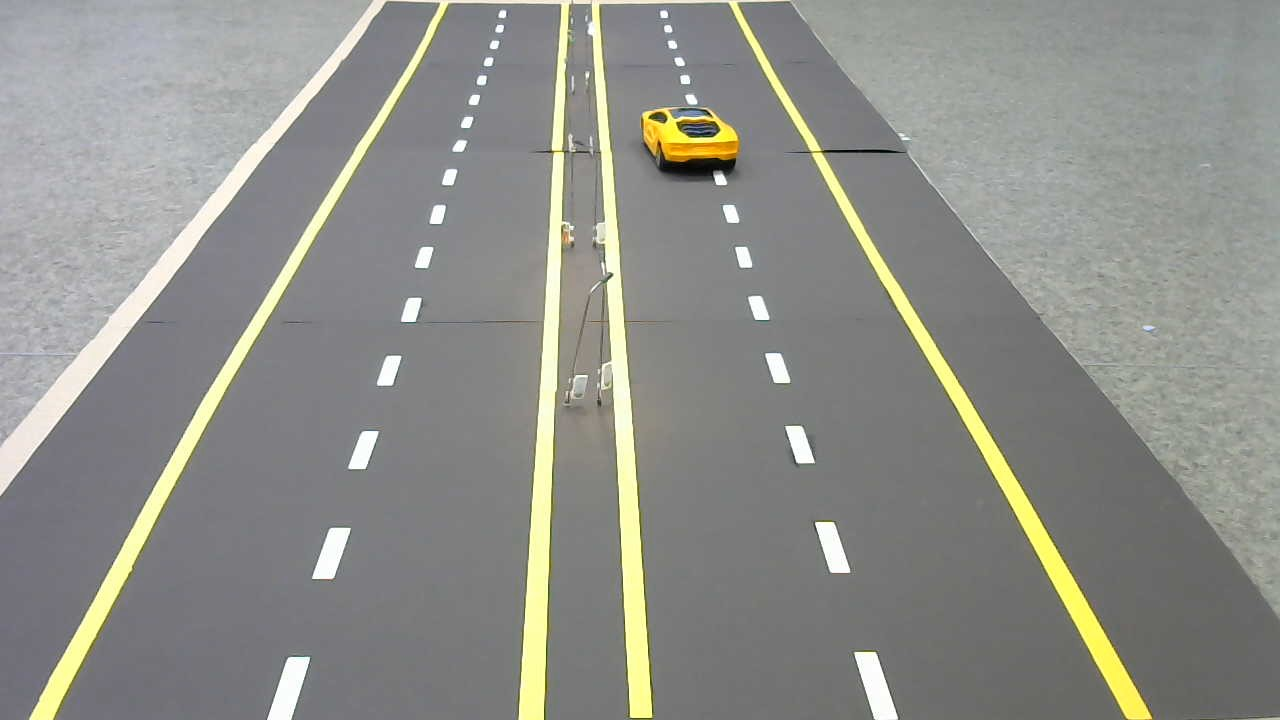back_car: (638, 104, 747, 171)
